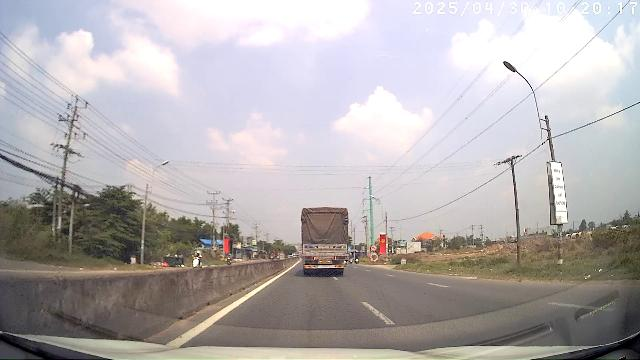124b-cam-oto-quay-dau-xe: (371, 245, 377, 251)
